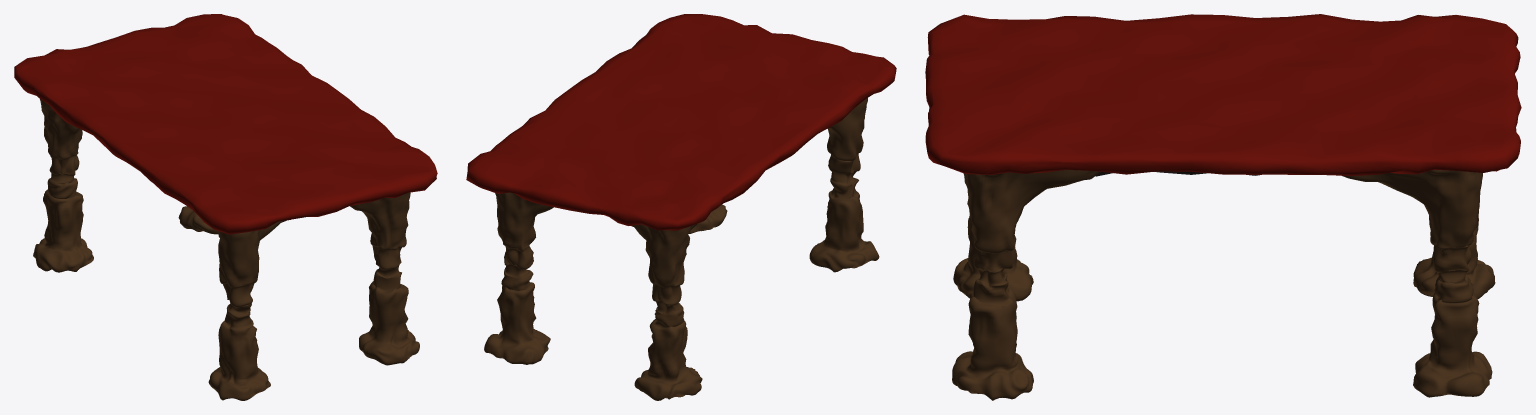
Rendered from Table.fbx.
3 views of the same model, side by side, from view 1: azimuth 30°, elevation 25°; view 2: azimuth 150°, elevation 25°; view 3: azimuth 270°, elevation 25° (orthographic). The views are drawn at different scales.
Visible parts, largest first — view 1: Cube.001; view 2: Cube.001; view 3: Cube.001.
Boxes of the visible parts, bbox=[...] form: Cube.001: bbox=[14, 14, 437, 400]; Cube.001: bbox=[466, 14, 896, 400]; Cube.001: bbox=[925, 14, 1521, 400].
Bounding box in the file's own units: 176 × 142 × 302.
